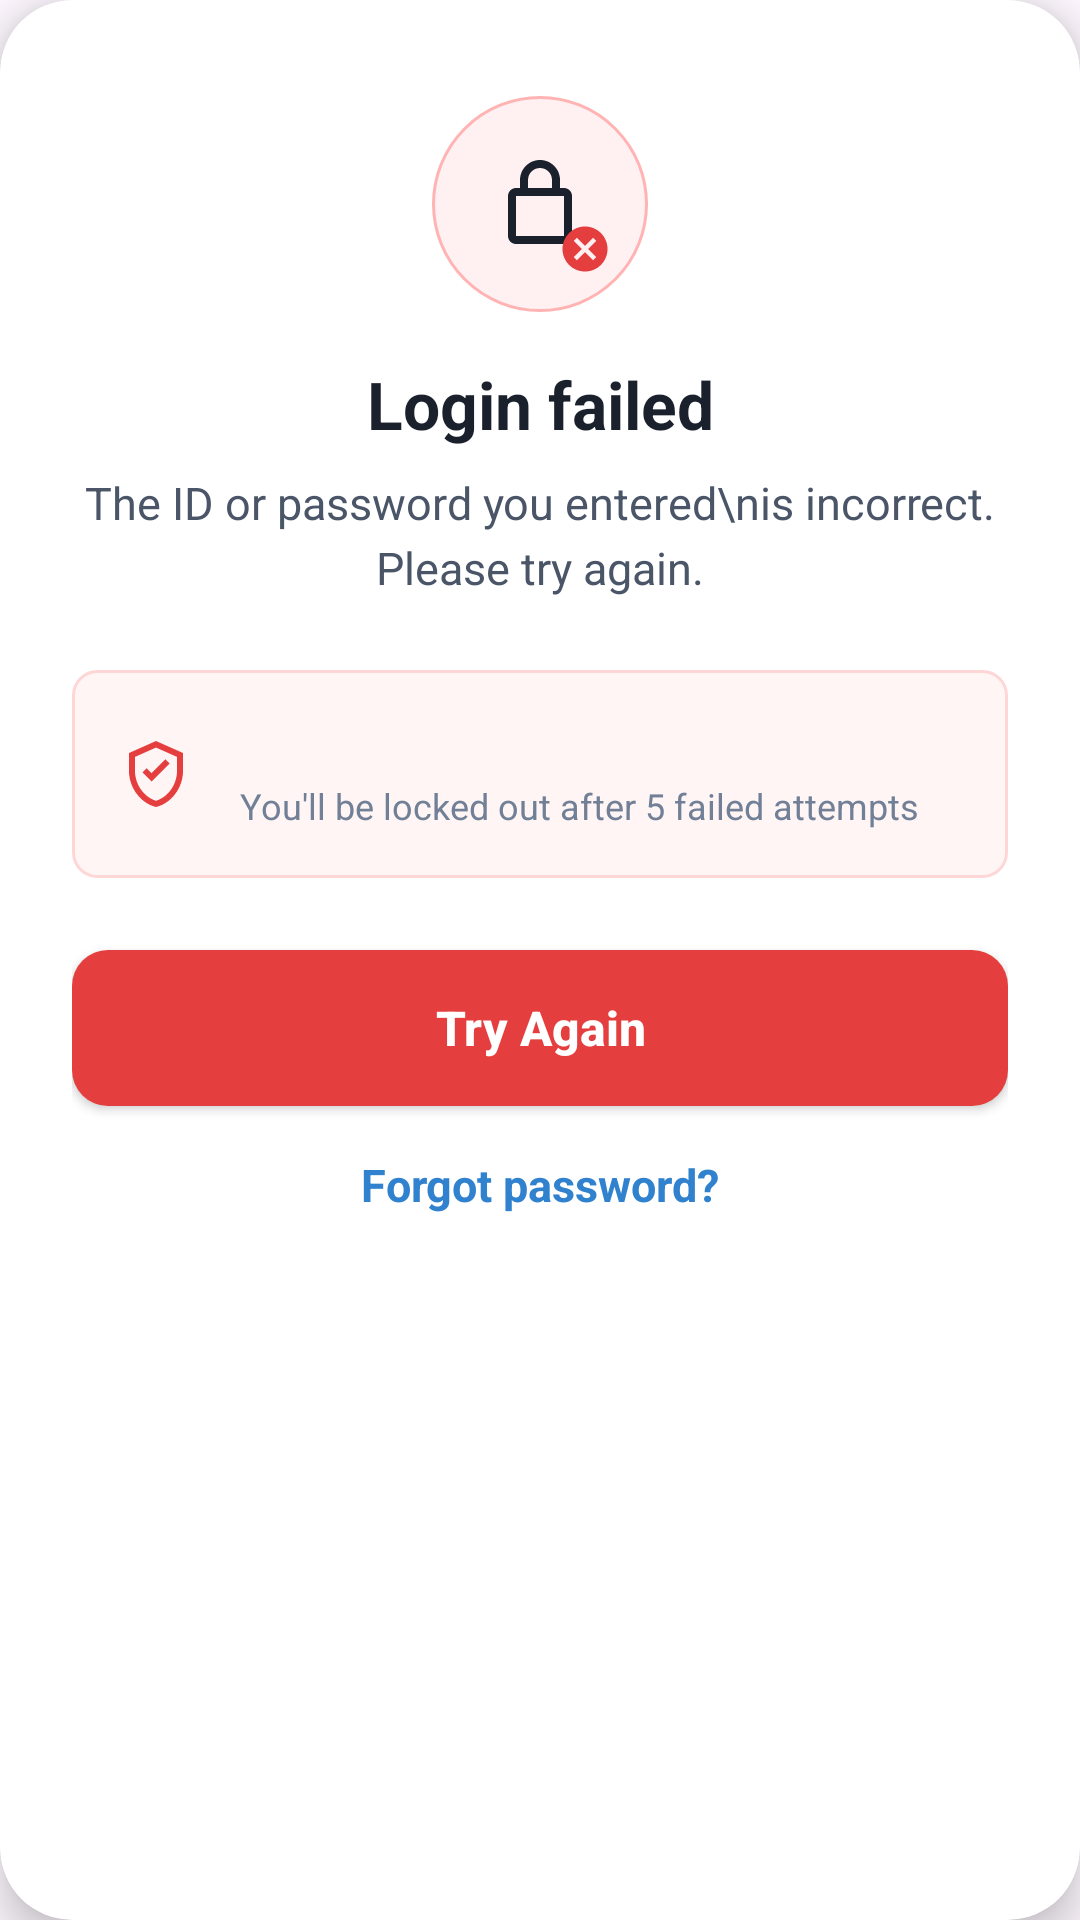

Icon bounding boxes for this 1080x1920 phone screenshot, format (x1, y1, x2, y2):
cross circle: (552, 216, 618, 282)
shield check: (129, 741, 183, 807)
